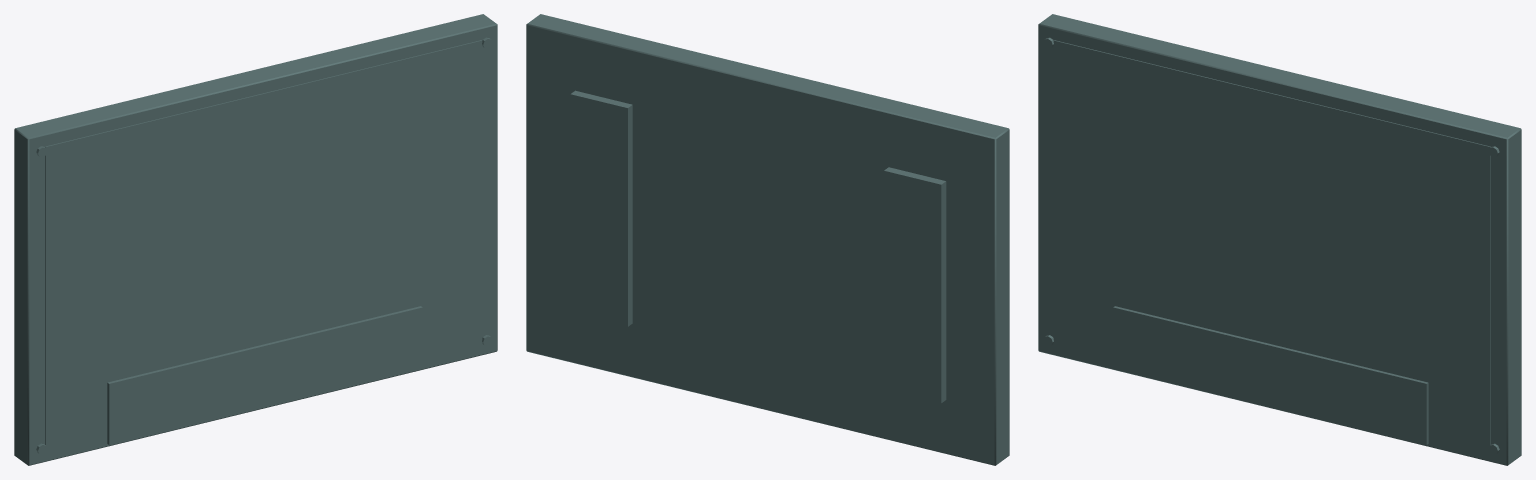
File: OBJ-016_PlacaEmergencia.fbx
3 views of the same model, side by side, from view 1: azimuth 30°, elevation 25°; view 2: azimuth 150°, elevation 25°; view 3: azimuth 330°, elevation 25° (orthographic).
Visible parts, largest first — view 1: GEO-OBJ-016_PlacaEmergencia; view 2: GEO-OBJ-016_PlacaEmergencia; view 3: GEO-OBJ-016_PlacaEmergencia.
Part boxes in pixels (box(x1,y1,x2,y2)): GEO-OBJ-016_PlacaEmergencia: box(14, 14, 497, 465); GEO-OBJ-016_PlacaEmergencia: box(526, 14, 1009, 465); GEO-OBJ-016_PlacaEmergencia: box(1038, 14, 1521, 465).
Size of the model in its own units: 0.45 by 0.3 by 0.0365.
